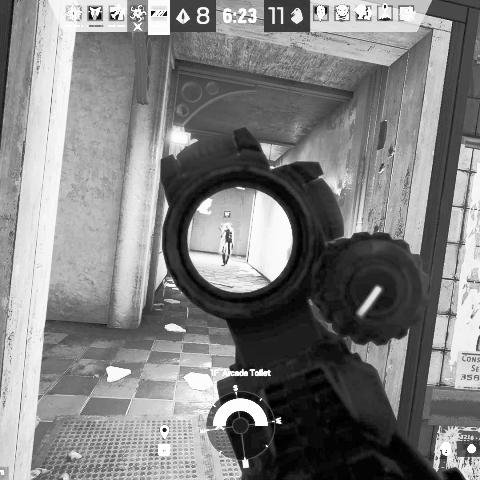Character: (219, 223, 235, 267)
Friend_label: (219, 210, 236, 224)
Head: (225, 224, 230, 229)
